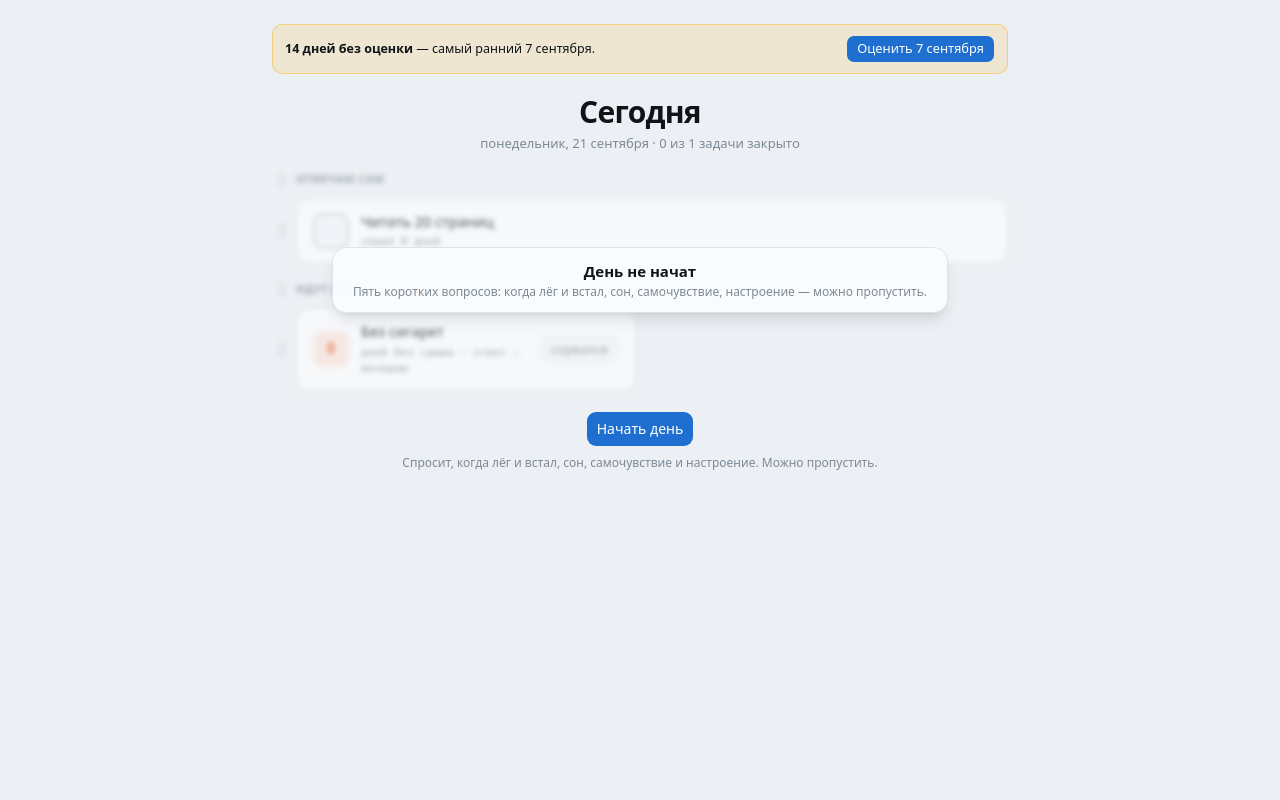
Test case: экран дня — пока день не начат › «как обычно» — из своих прошлых утр: середина ответов за 14 дней
Click the button "Начать день" at (640, 428), box [586,410,694,446]
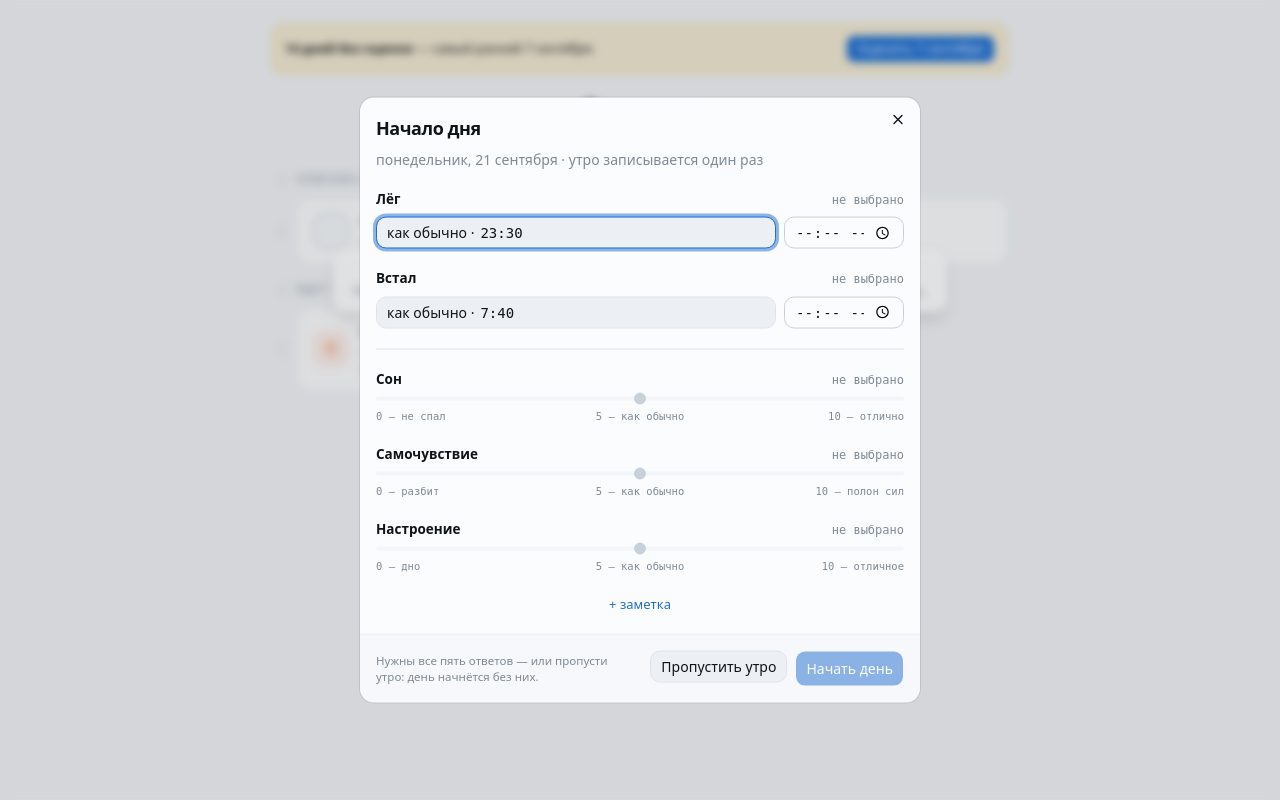
Expected: the button with aria-label "лёг как обычно" shows "23:30", [376,217,776,249]
Expected: the button with aria-label "встал как обычно" shows "7:40", [376,296,776,328]
